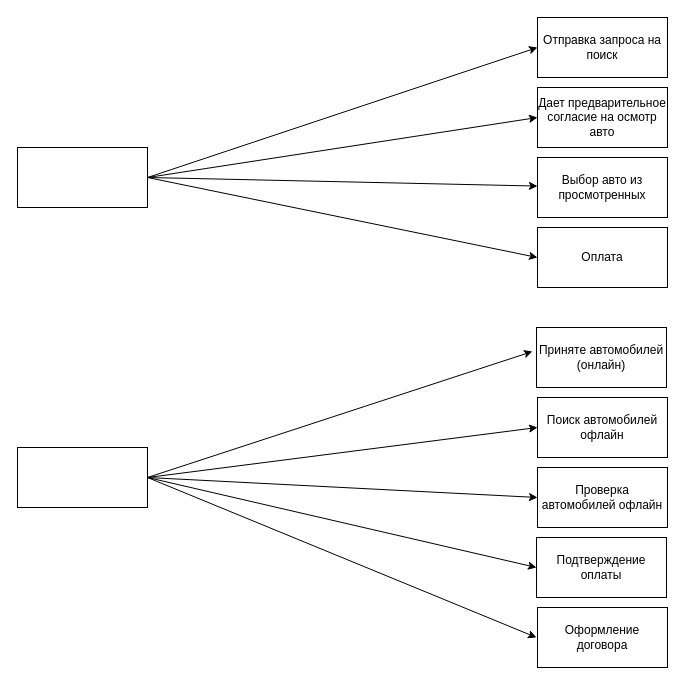
This 685x685 diagram has some shape labels left out. The shapes that lost their labels are listed below. From the top down, each one's box as (x1, y1, x2, y2) in pixels, then its label:
(16, 146, 148, 208): Клиент
(16, 446, 148, 508): Автоподборщик
